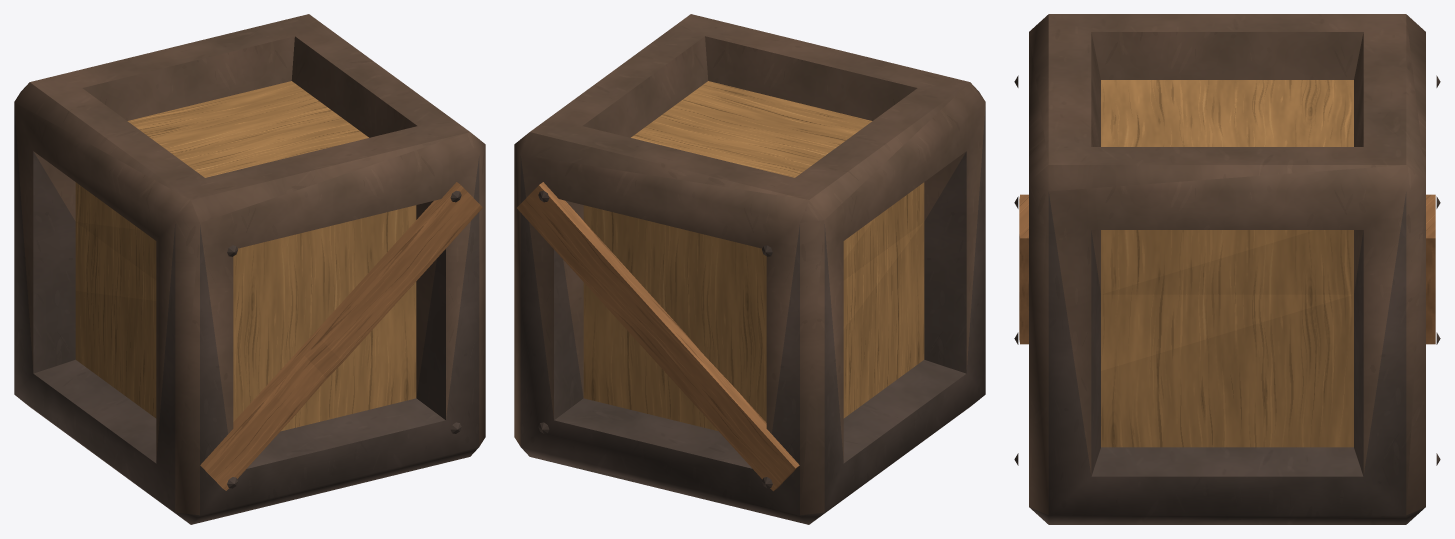
File: braced_case.gltf
The picture shows the model from 3 angles, left to right: view 1: azimuth 30°, elevation 25°; view 2: azimuth 150°, elevation 25°; view 3: azimuth 270°, elevation 25°; orthographic projection. The views are drawn at different scales.
Parts seen in each view (by area): view 1: braced_case; view 2: braced_case; view 3: braced_case.
Part boxes in pixels (left/top/right/bottom): braced_case: left=14, top=14, right=485, bottom=524; braced_case: left=514, top=14, right=985, bottom=524; braced_case: left=1014, top=14, right=1440, bottom=524.
Size of the model in its own units: 1.5 by 1.5 by 1.61.
5 materials, 5 textured.
